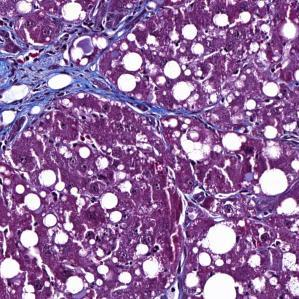fibrosis: (0, 42, 104, 111)
